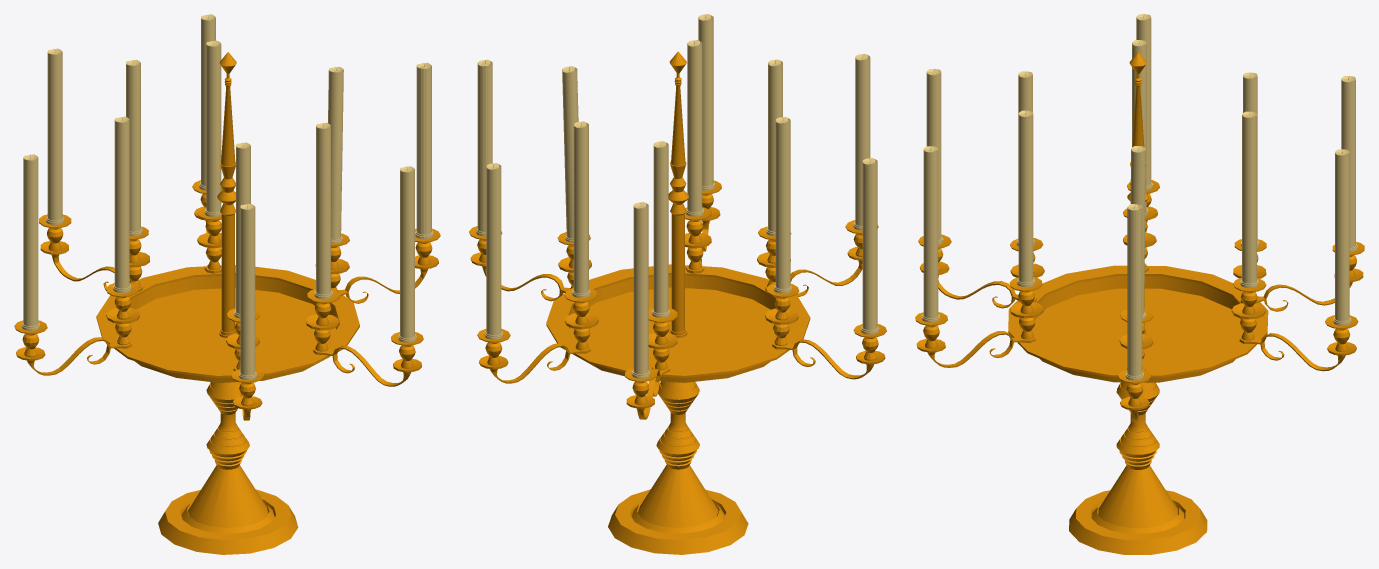
The model's file is Candle Stand.fbx.
The picture shows the model from 3 angles, left to right: view 1: azimuth 30°, elevation 25°; view 2: azimuth 150°, elevation 25°; view 3: azimuth 270°, elevation 25°; orthographic projection.
Parts seen in each view (by area): view 1: Candle Stand.002; view 2: Candle Stand.002; view 3: Candle Stand.002.
Boxes of the visible parts, x1=… form: Candle Stand.002: x1=14, y1=14, x2=440, y2=554; Candle Stand.002: x1=469, y1=14, x2=886, y2=554; Candle Stand.002: x1=915, y1=14, x2=1364, y2=554.
Bounding box in the file's own units: 37.76 × 40.95 × 35.2.
